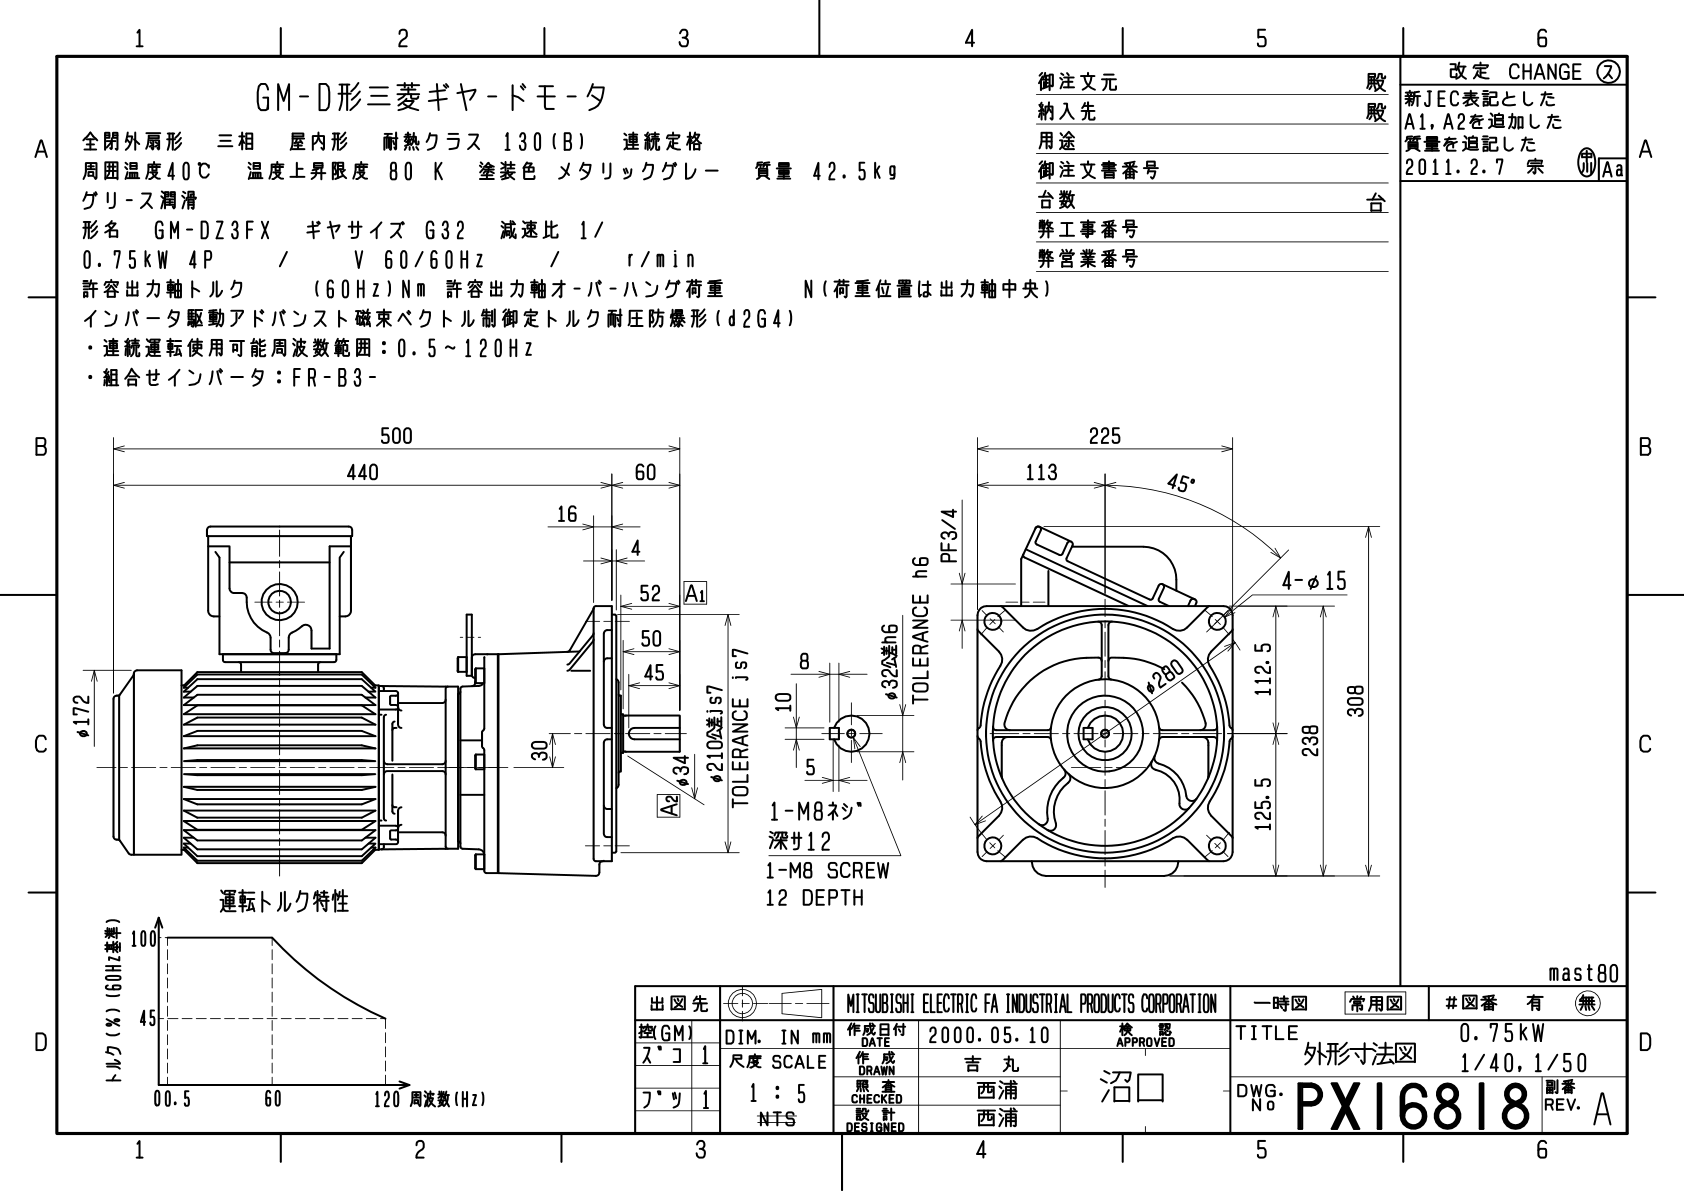GM_D_制御屋内_三相_フランジ: (8, 1, 1684, 1168)
